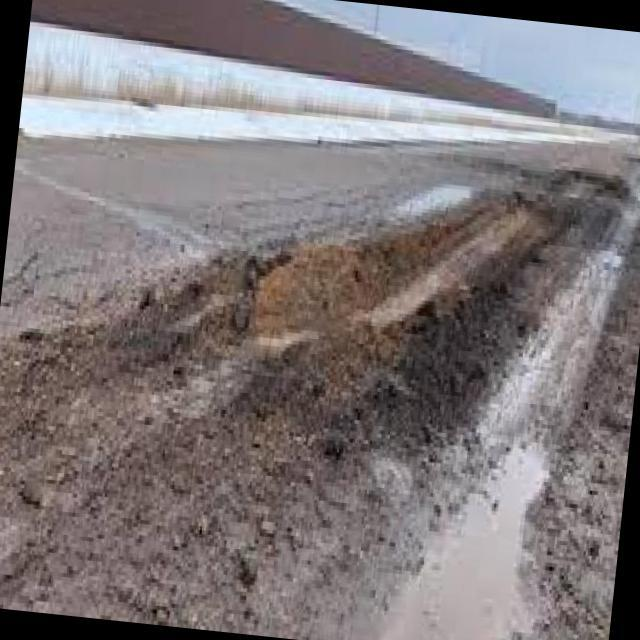Pothole: (0, 204, 604, 640)
